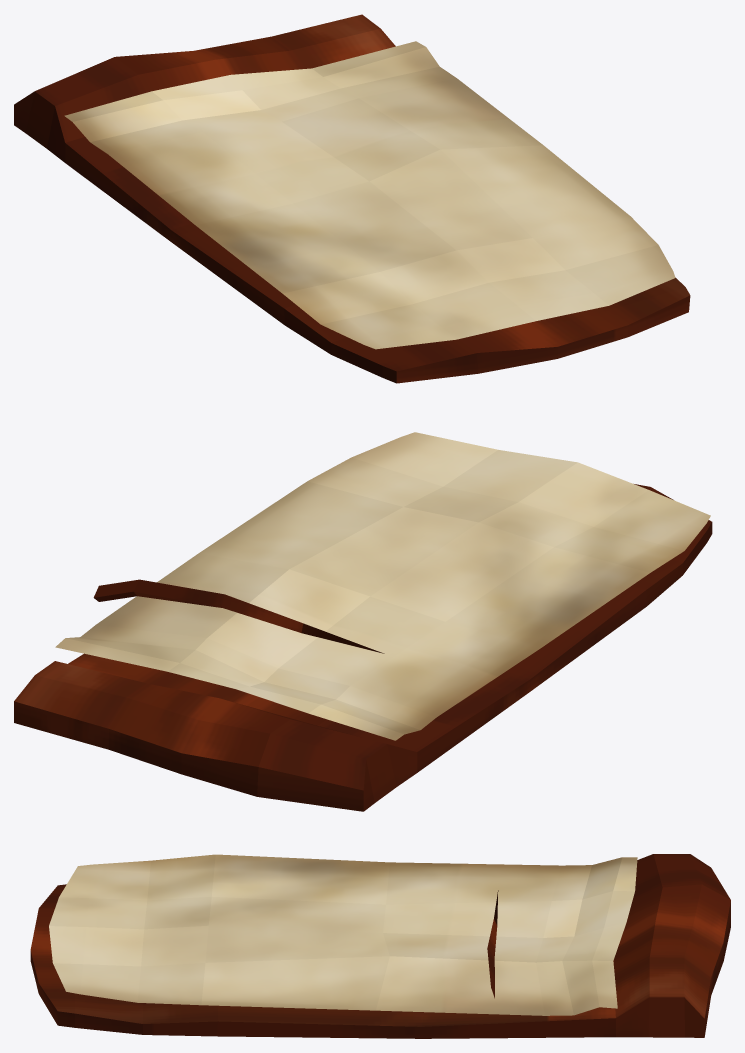
Rendered from BedRollUnrolled.glb.
3 renders of one model, top to bottom at view 1: azimuth 30°, elevation 25°; view 2: azimuth 150°, elevation 25°; view 3: azimuth 270°, elevation 25°, orthographic. The views are drawn at different scales.
Visible parts, largest first — view 1: Plane; view 2: Plane; view 3: Plane.
Part boxes in pixels (left/top/right/bottom): Plane: left=14, top=14, right=690, bottom=383; Plane: left=14, top=432, right=712, bottom=811; Plane: left=30, top=854, right=730, bottom=1038.
Bounding box in the file's own units: 1.59 × 0.2304 × 2.75.
1 material, 1 textured.
